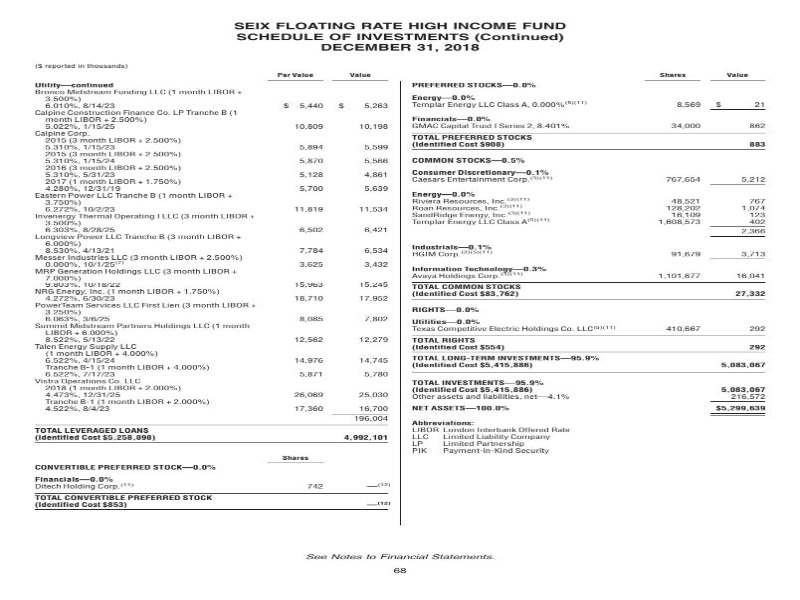table: (24, 58, 408, 541), (392, 65, 785, 531)
